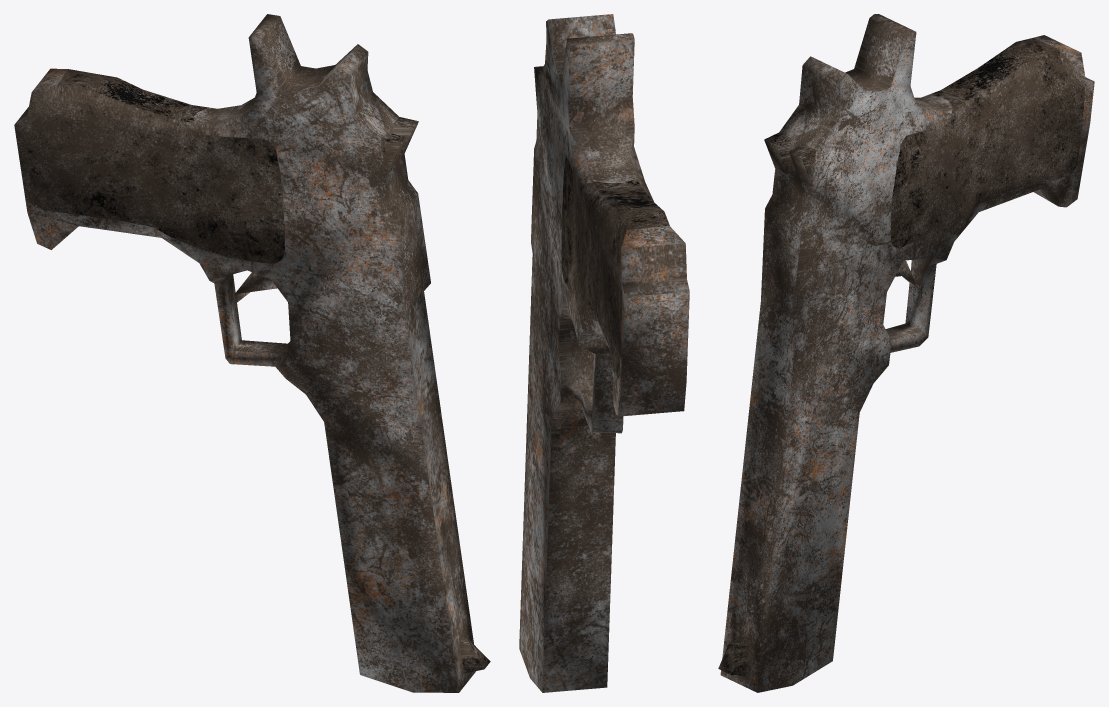
File: Anim_idle_pistola_objetos.0050.obj
3 views of the same model, side by side, from view 1: azimuth 30°, elevation 25°; view 2: azimuth 150°, elevation 25°; view 3: azimuth 270°, elevation 25° (orthographic). The views are drawn at different scales.
Visible parts, largest first — view 1: Pistola1; view 2: Pistola1; view 3: Pistola1.
Boxes of the visible parts, <box> form: Pistola1: <box>14,14,490,692</box>; Pistola1: <box>519,14,689,692</box>; Pistola1: <box>718,14,1094,692</box>.
Bounding box in the file's own units: 0.8458 × 1.67 × 0.9346.
